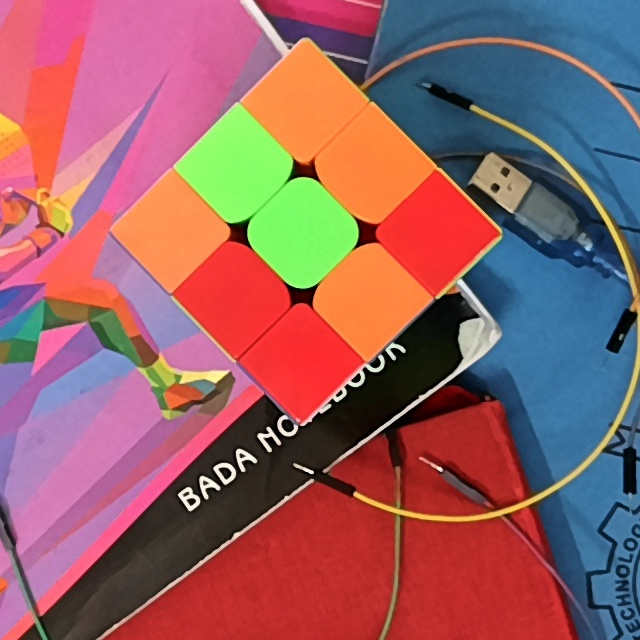tile: (273, 73, 337, 133), (276, 201, 335, 263), (406, 205, 469, 263), (204, 267, 264, 327), (339, 268, 398, 327), (272, 332, 334, 388), (144, 203, 201, 262), (210, 140, 268, 197), (340, 141, 400, 196)
